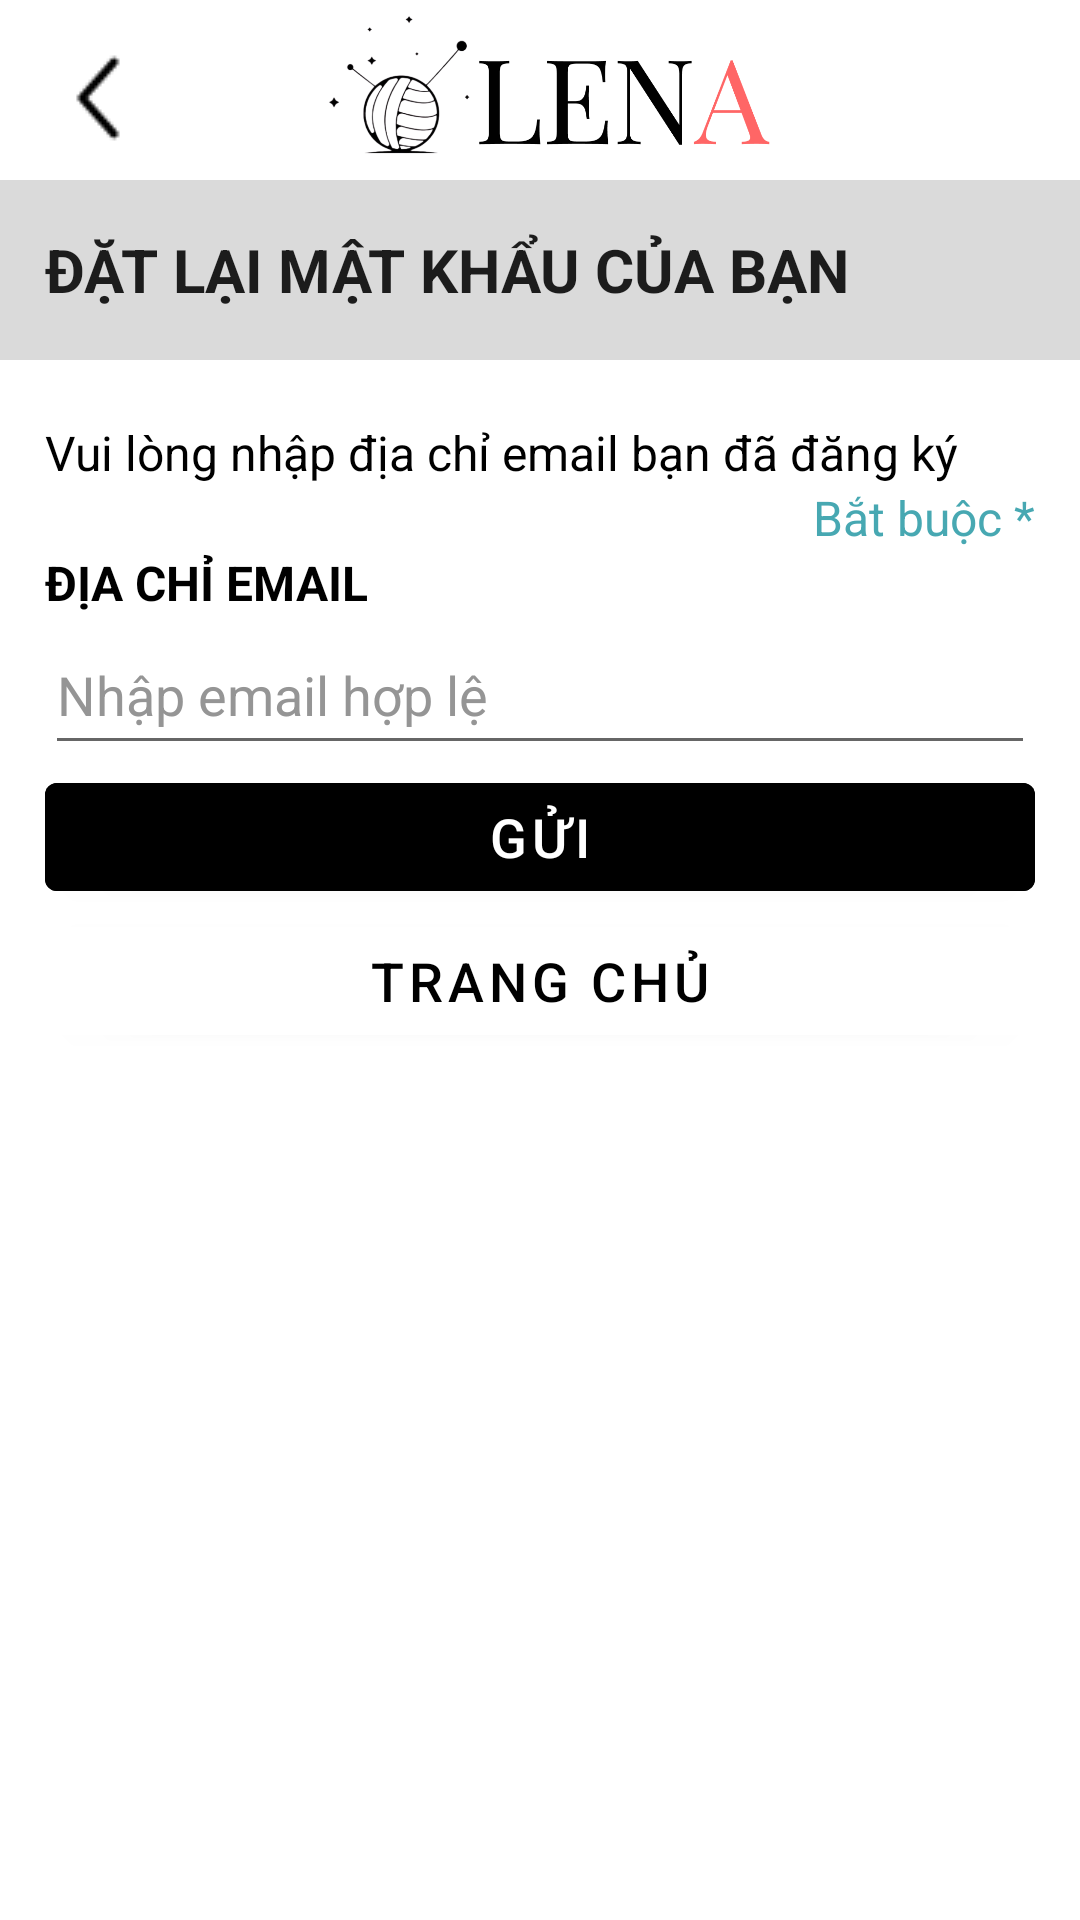

Screen size 1080*1920. Icon name, then its box in pixels as (x1, y1, x2, y2):
left: (76, 55, 120, 140)
